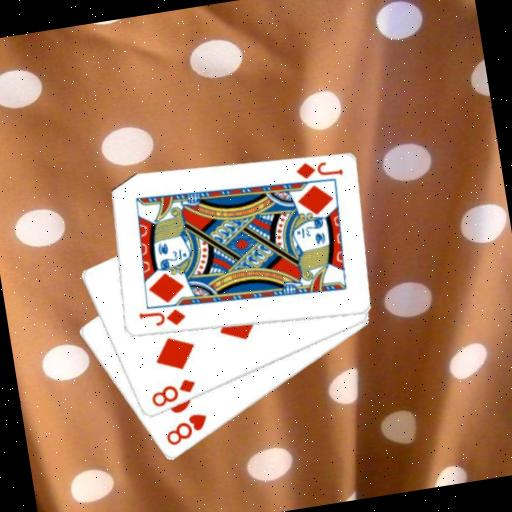8D: (145, 375, 199, 410)
8H: (159, 409, 212, 449)
JD: (135, 302, 188, 333), (291, 153, 344, 184)
